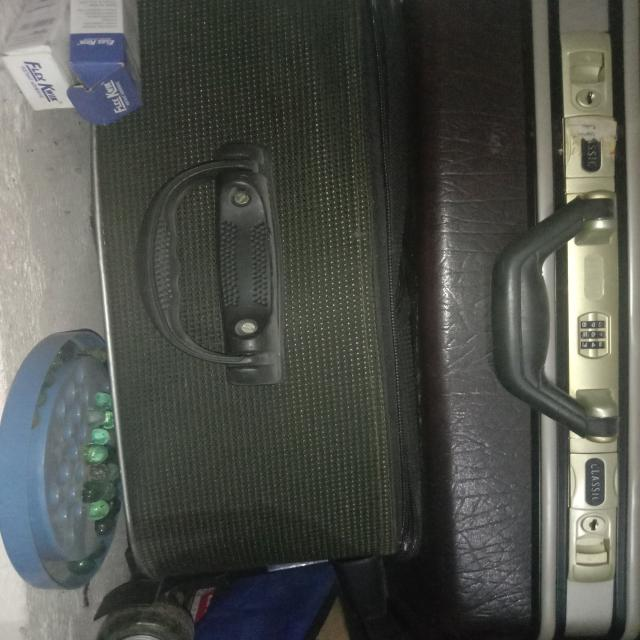suitcaserotation: (84, 0, 429, 639), (408, 1, 640, 640)
